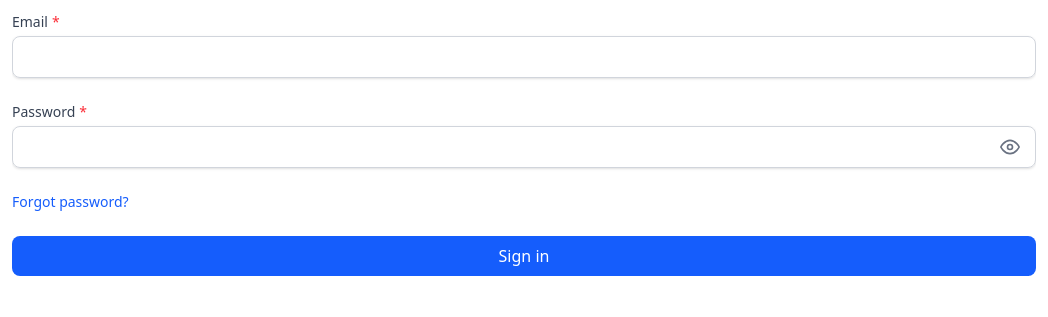
LoginForm › should display validation errors for empty password
The image size is (1048, 317).
Type "user@example.com" into the field labelled "Email*" at (524, 57), box [12, 36, 1036, 78]
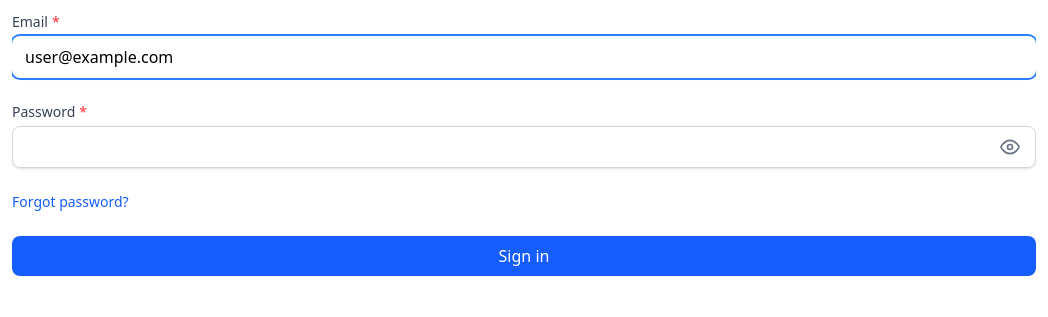
Click the button "Sign in" at (524, 256), box [12, 236, 1036, 276]
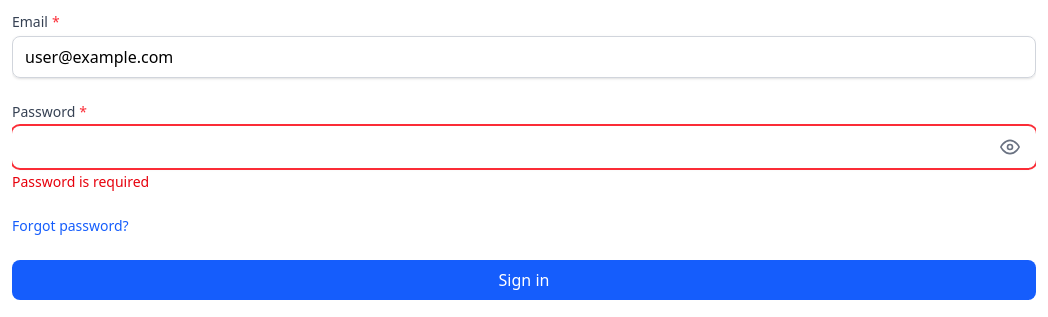
Result: the text "Password is required" is shown at [12, 172, 149, 191]
